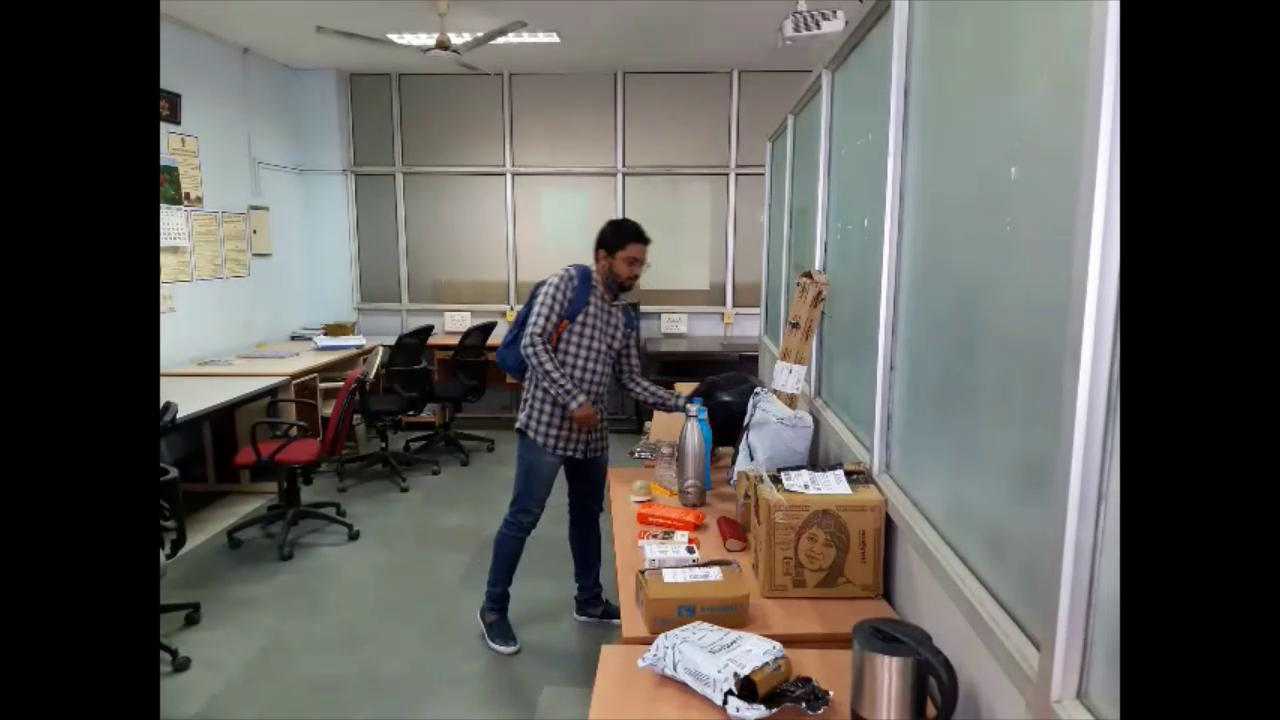Normal: (474, 200, 718, 720)
